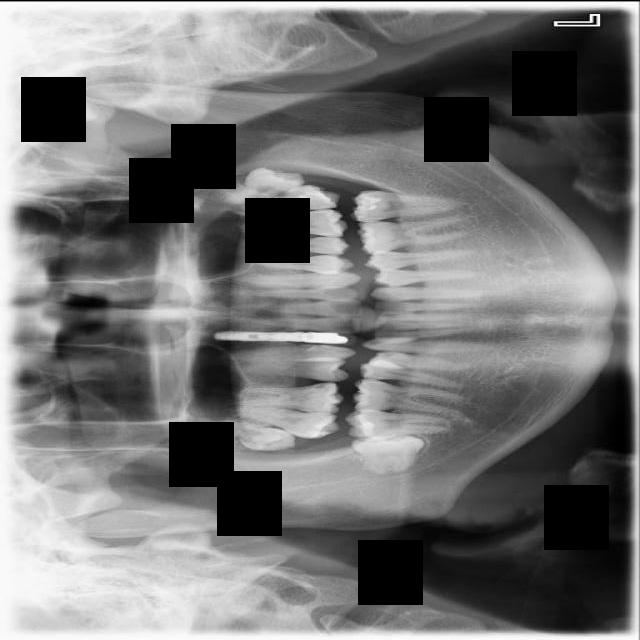3M ESPE Implant: (215, 416, 298, 455)
52: (289, 179, 342, 215), (350, 188, 395, 223), (300, 326, 359, 346), (307, 381, 327, 389)
73: (564, 18, 582, 30)
BioHorizons Implant: (231, 180, 342, 221)
BioLife Implant: (211, 156, 308, 211)
Blue Sky Bio Implant: (349, 189, 464, 224)
Caries: (228, 402, 341, 441)
Implant: (342, 405, 449, 450)
Keystone Dental Implant: (350, 427, 428, 478)
